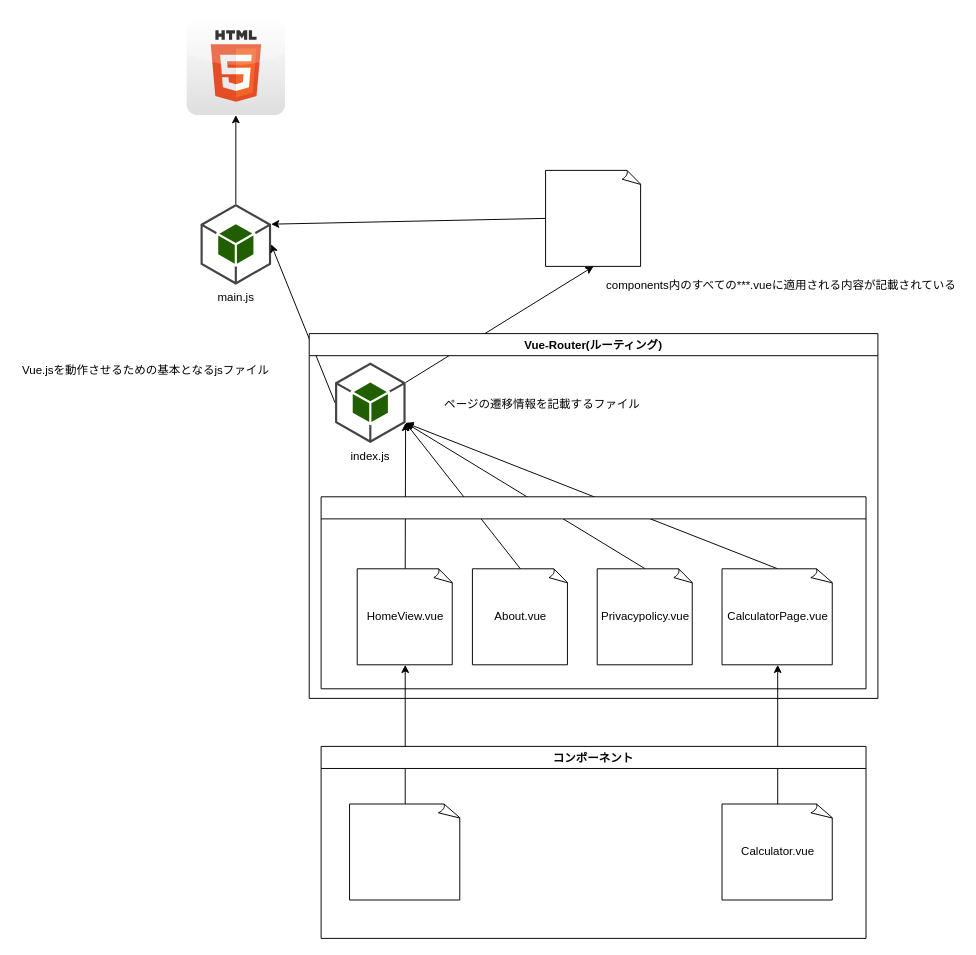
Some shapes in this 976 by 955 pixel diagram are drawn without their labels. Each missing label, with the centre of its shape:
App.vue: the point at 593,217
Helloworld.vue: the point at 405,851
index.html: the point at 235,65
Mainフレーム: the point at 593,592
